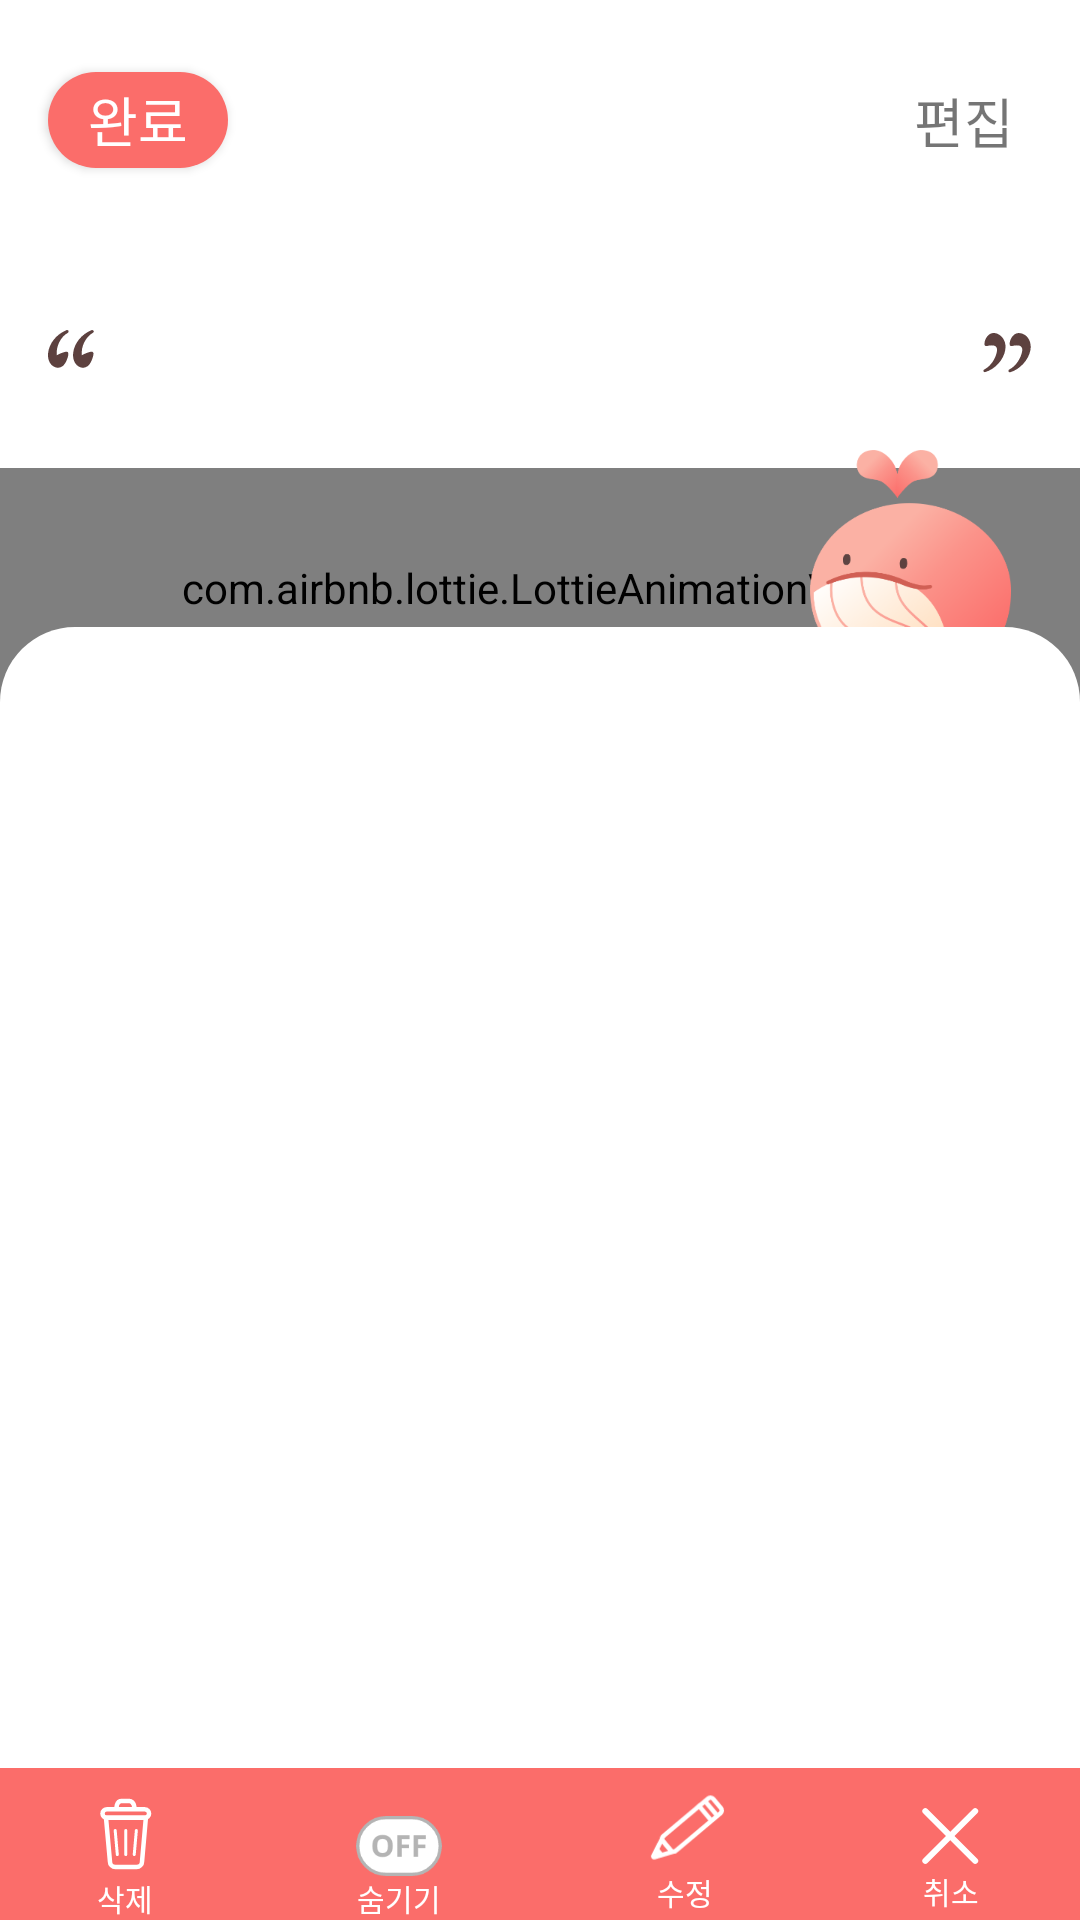

Where to tap for icons on this 1080px×1920px app screen, as (x,y):
home quote left: (71,349)
home quote right: (1007,353)
